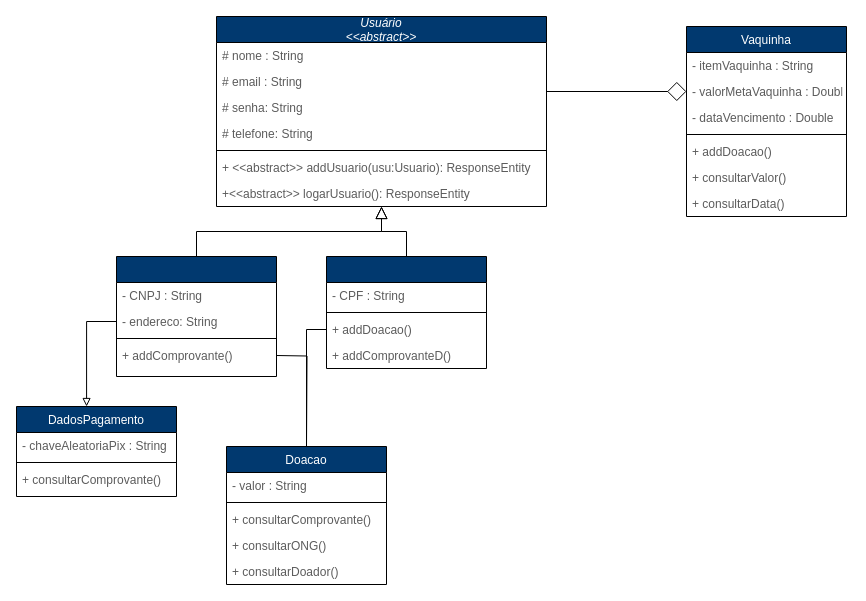
Some shapes in this 866 by 601 pixel diagram are drawn without their labels. The shapes that lost their labels are listed below. From the top down, each one's box as (x1, y1, x2, y2) in pixels, then its label:
(116, 256, 276, 376): ONG
(326, 256, 486, 368): Doador
